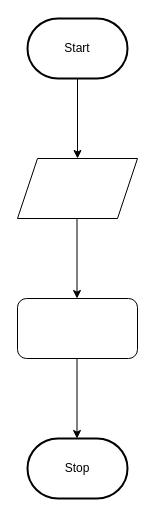
Image size: 155x516. Some labels were removed from this diagram. The box of each missing label's shape, as (x1, y1, x2, y2) in pixels:
display quote and author: (16, 298, 138, 358)
get random quote using json: (16, 158, 138, 218)
